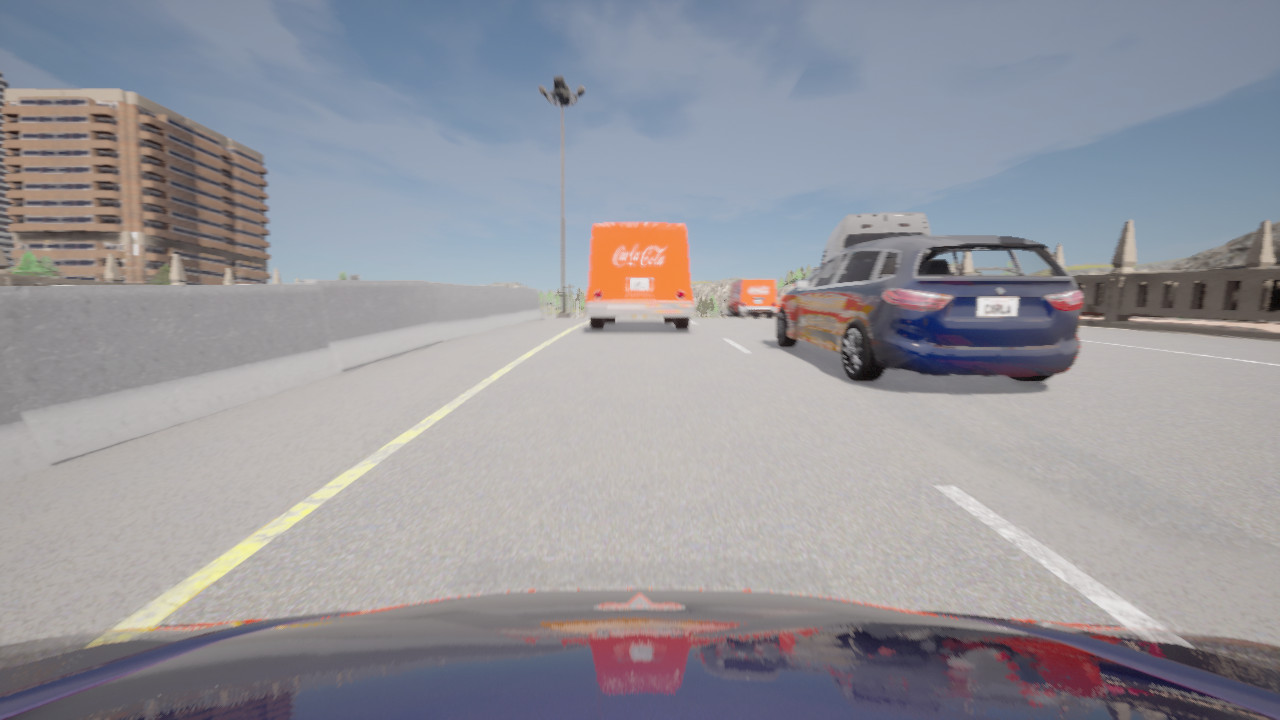cyclist: (0, 588, 1279, 719), (775, 236, 1082, 381), (586, 223, 695, 329), (812, 213, 930, 272), (724, 278, 777, 317), (631, 316, 648, 317)
